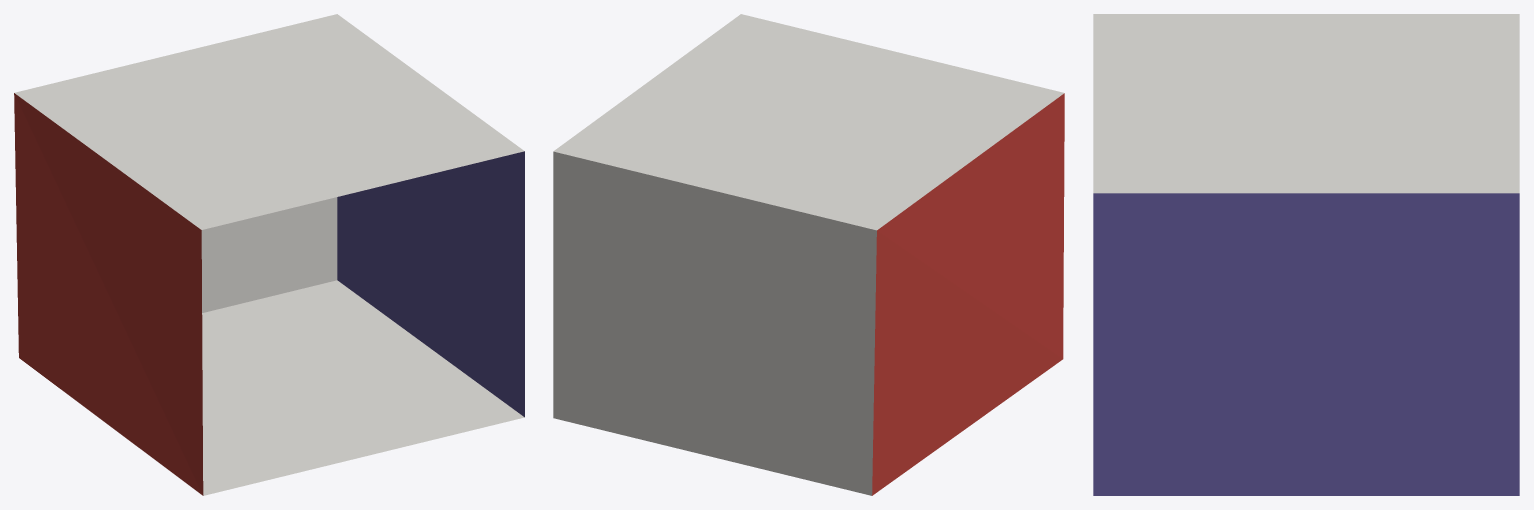
The model's file is CornellBox-Emptysquashed.fbx.
3 renders of one model, left to right at view 1: azimuth 30°, elevation 25°; view 2: azimuth 150°, elevation 25°; view 3: azimuth 270°, elevation 25°, orthographic. The views are drawn at different scales.
Visible parts, largest first — view 1: CornellBox-Empty-Squashed; view 2: CornellBox-Empty-Squashed; view 3: CornellBox-Empty-Squashed.
Boxes of the visible parts, x1,y1,x2,y2 form: CornellBox-Empty-Squashed: [14, 14, 524, 495]; CornellBox-Empty-Squashed: [553, 14, 1064, 495]; CornellBox-Empty-Squashed: [1093, 14, 1519, 495].
Size of the model in its own units: 202 by 159 by 203.
